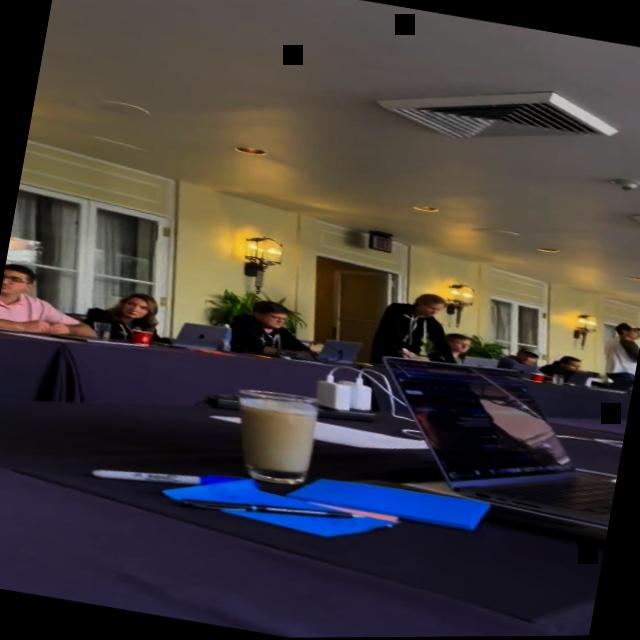NO-Mask: (0, 269, 29, 299), (121, 295, 148, 321), (260, 311, 286, 330), (420, 300, 444, 320), (446, 338, 469, 356), (517, 351, 536, 366), (564, 359, 582, 373), (627, 329, 640, 342)
